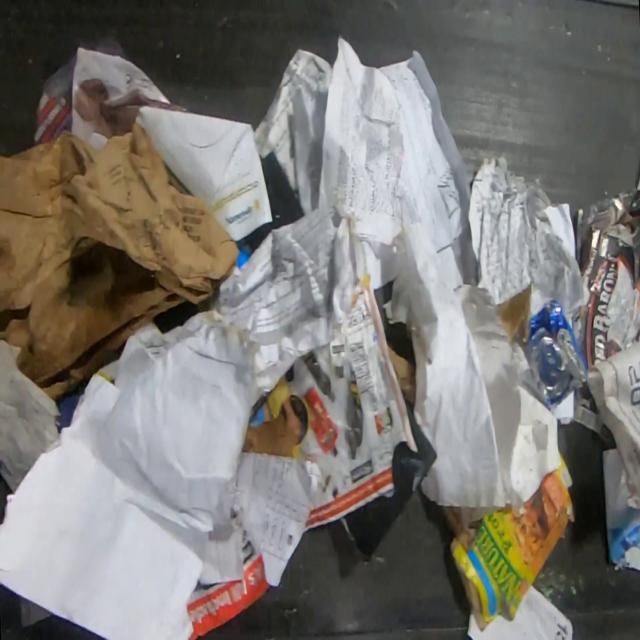cardboard: (0, 120, 240, 403), (439, 446, 576, 633), (601, 445, 640, 572), (494, 279, 532, 344), (388, 342, 414, 405)
metal: (521, 296, 588, 406)
